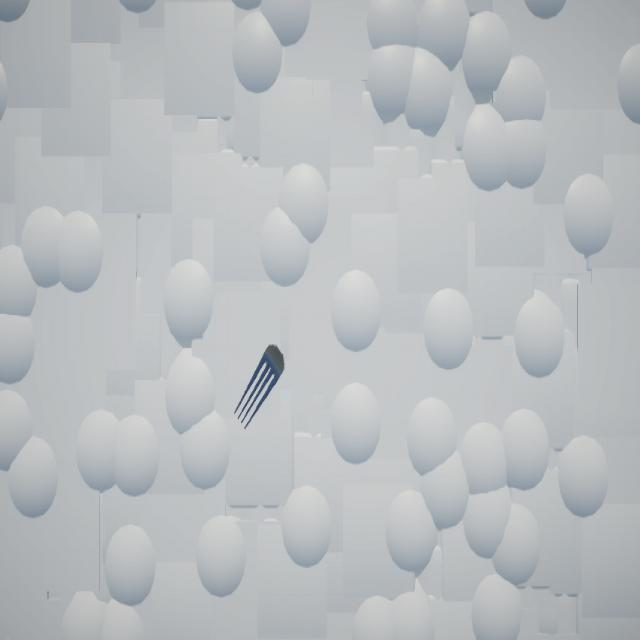top_folk: (235, 346, 286, 430)
